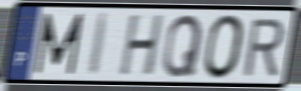H: (117, 12, 167, 79)
I: (86, 11, 113, 79)
M: (32, 11, 86, 77)
O: (202, 13, 247, 82)
Q: (160, 13, 205, 81)
R: (241, 17, 286, 79)
